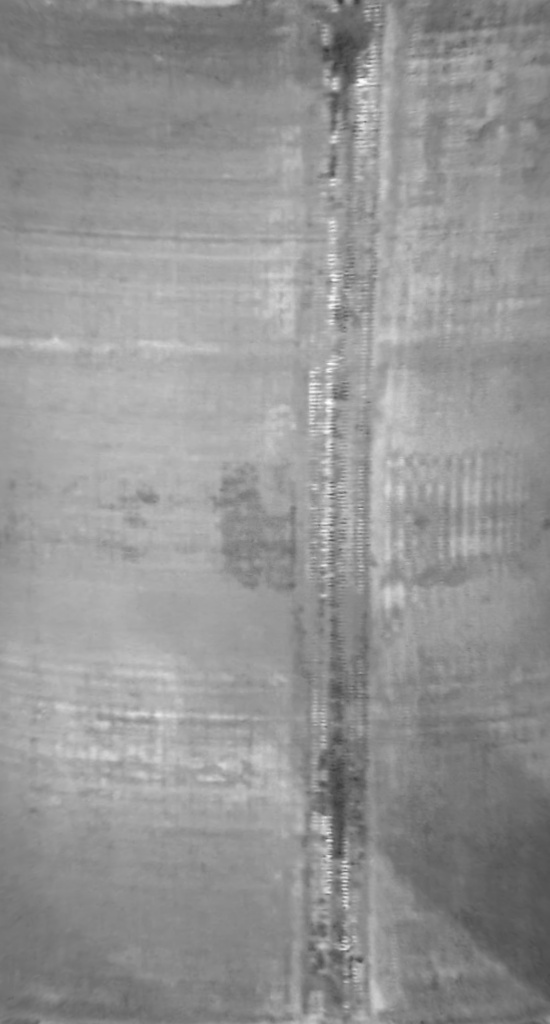splice: (297, 1, 394, 1020)
